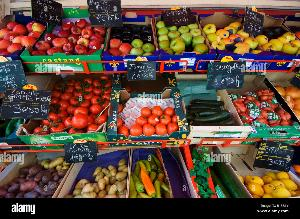apple: (36, 13, 110, 65), (206, 8, 262, 68), (154, 13, 212, 61), (108, 16, 158, 64), (0, 16, 46, 60), (254, 16, 300, 58)
bell_pepper: (127, 151, 174, 203)
lemon: (235, 148, 300, 200)
onion: (232, 72, 300, 132)
tomato: (24, 76, 116, 142), (113, 90, 186, 138)
zucchini: (182, 90, 234, 130)
